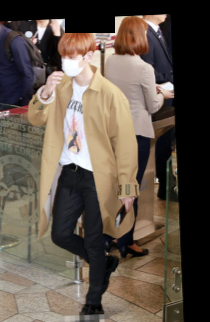with_mask: (60, 55, 84, 78)
